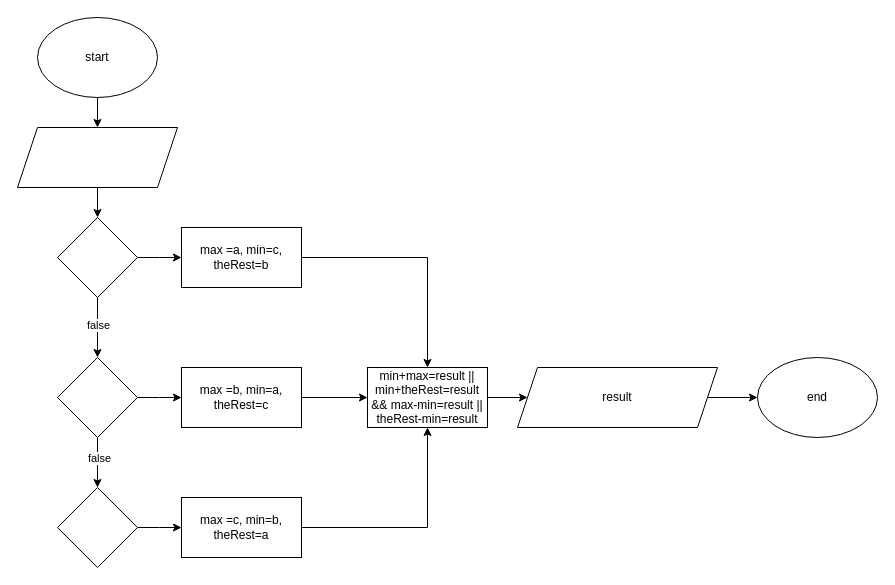
The diagram is 895 pixels wide and 585 high, and some of its shapes have lost their labels. The box of each missing label's shape, as (x1, y1, x2, y2) in pixels:
a, b, c, theRest, result: (16, 126, 178, 188)
a>b&&b>c: (56, 216, 138, 298)
b>c&&c>a: (56, 356, 138, 438)
c>a&&a>b: (56, 486, 138, 568)
